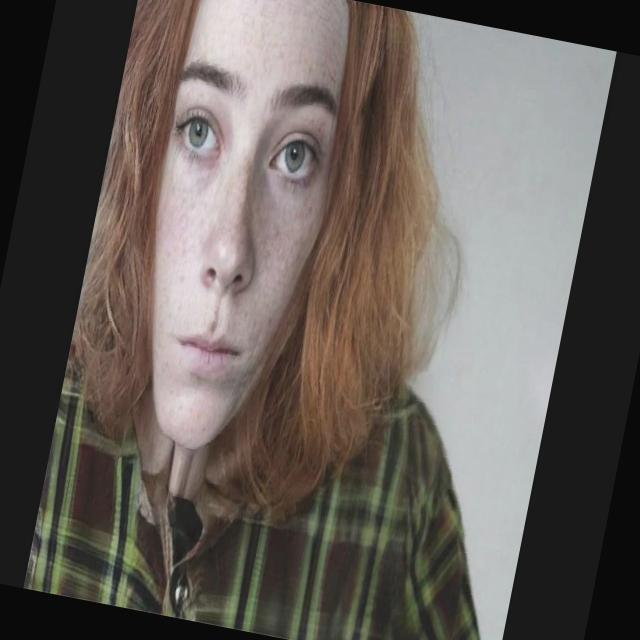freckle: (144, 155, 318, 310)
